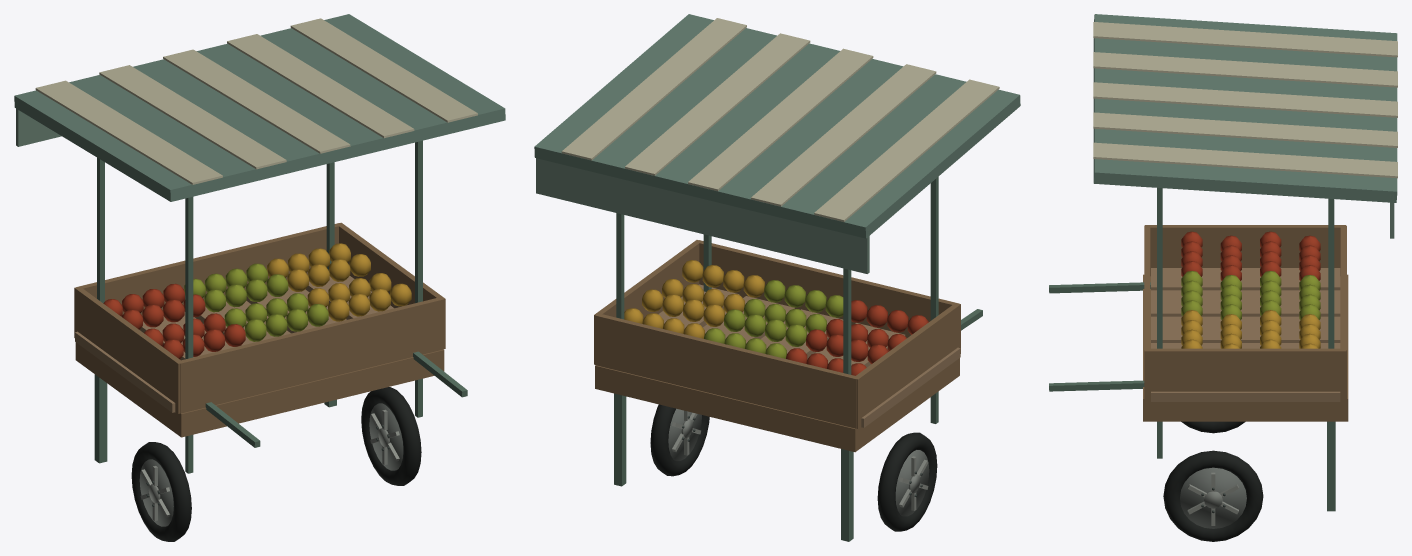
Rendered from produce_cart.glb.
The picture shows the model from 3 angles, left to right: view 1: azimuth 30°, elevation 25°; view 2: azimuth 150°, elevation 25°; view 3: azimuth 270°, elevation 25°; orthographic projection. The views are drawn at different scales.
Parts seen in each view (by area): view 1: produce_cart; view 2: produce_cart; view 3: produce_cart.
Boxes of the visible parts, bbox=[...] form: produce_cart: bbox=[14, 14, 505, 541]; produce_cart: bbox=[534, 14, 1020, 541]; produce_cart: bbox=[1049, 14, 1397, 541].
Size of the model in its own units: 2.1 by 2.45 by 1.95.
